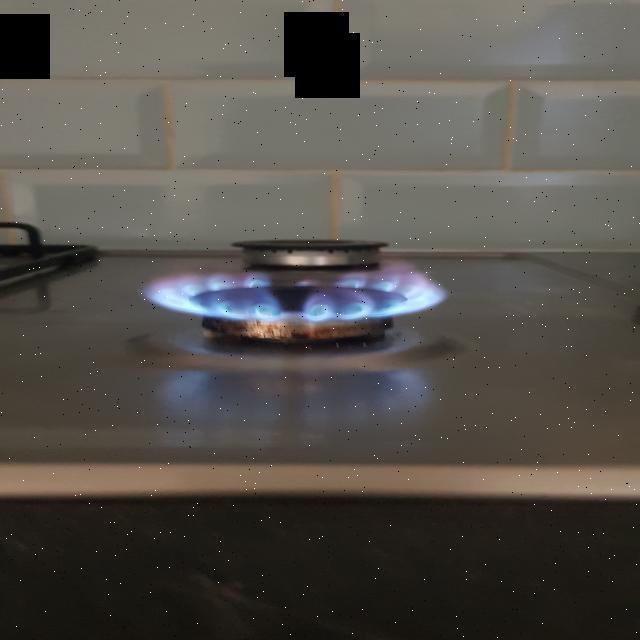Flame: (136, 268, 456, 354)
